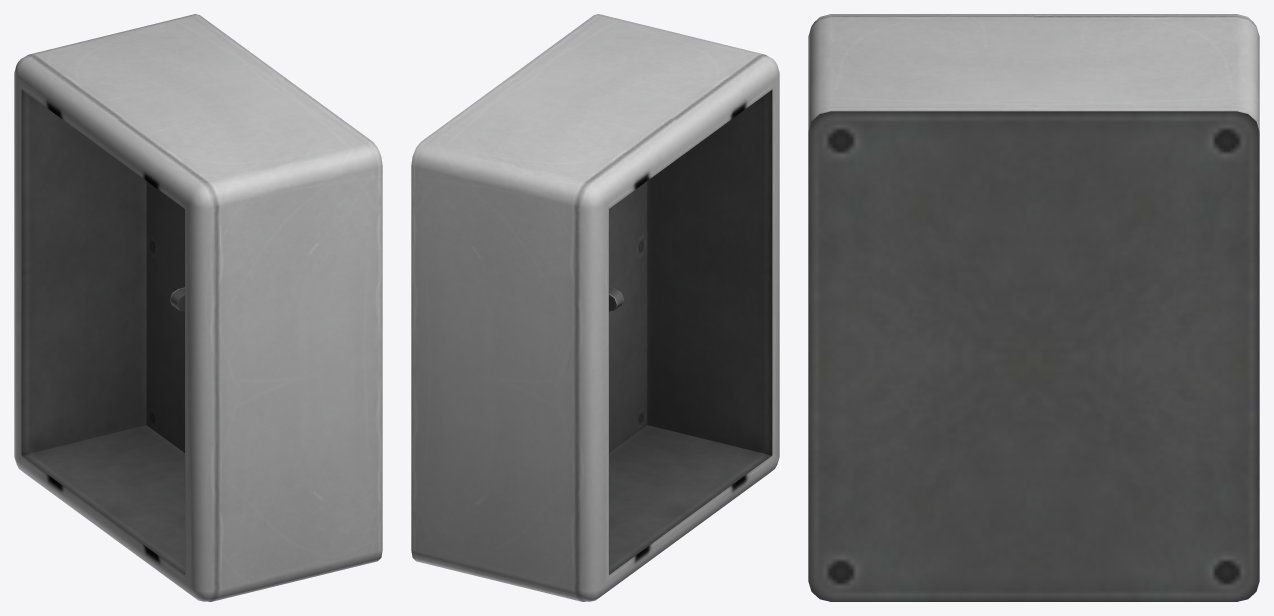
Rendered from shroud.obj.
3 renders of one model, left to right at view 1: azimuth 30°, elevation 25°; view 2: azimuth 150°, elevation 25°; view 3: azimuth 270°, elevation 25°, orthographic. The views are drawn at different scales.
Visible parts, largest first — view 1: 1; view 2: 1; view 3: 1.
Boxes of the visible parts, box(x1,y1,x2,y2) form: 1: box(14, 14, 382, 601); 1: box(411, 14, 779, 601); 1: box(808, 14, 1259, 601).
Bounding box in the file's own units: 0.55 × 1.2 × 1.
1 material, 1 textured.
